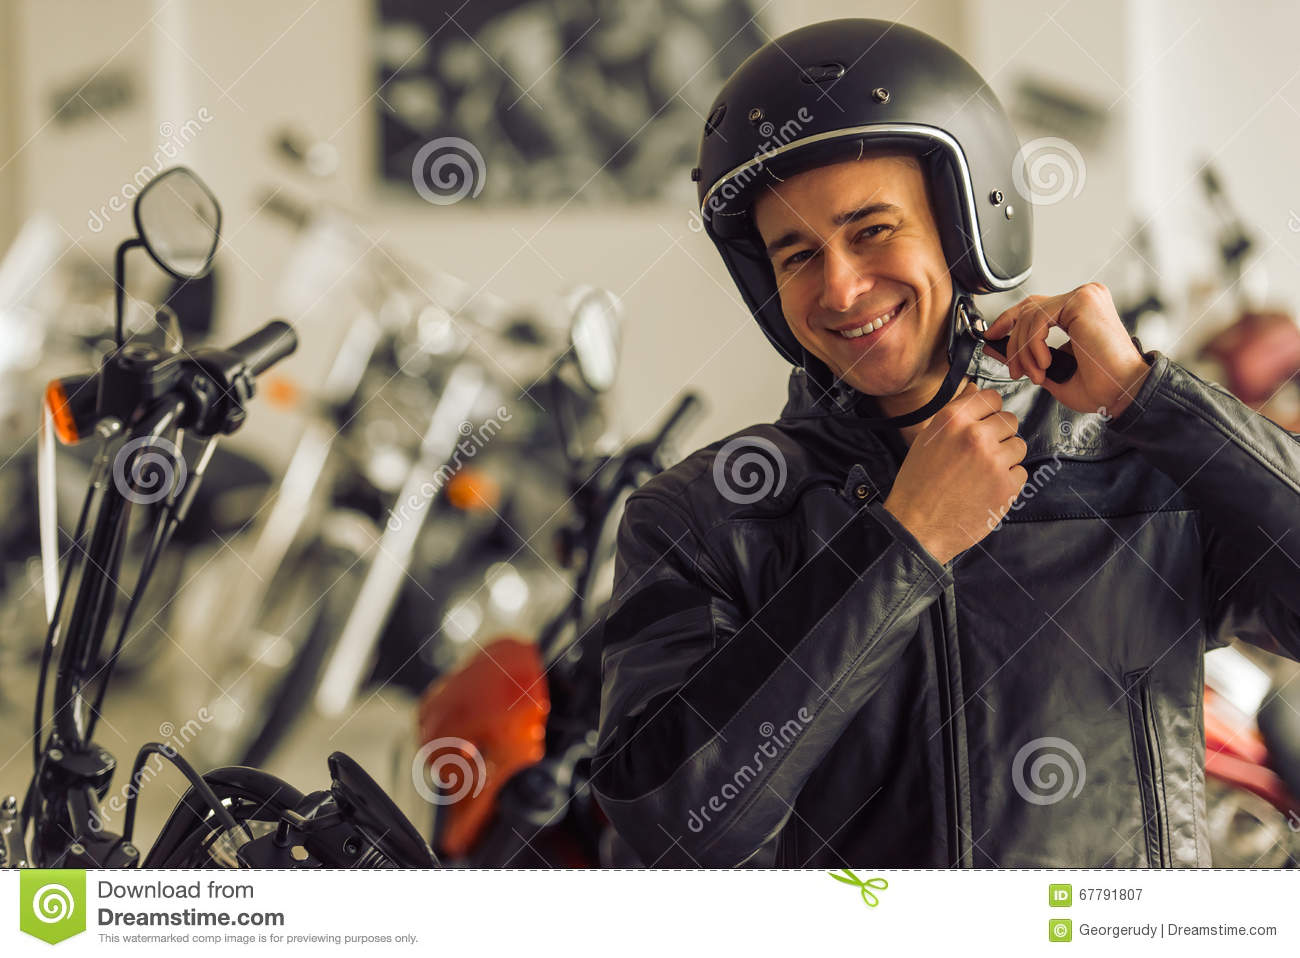helmet: (665, 16, 1031, 319)
